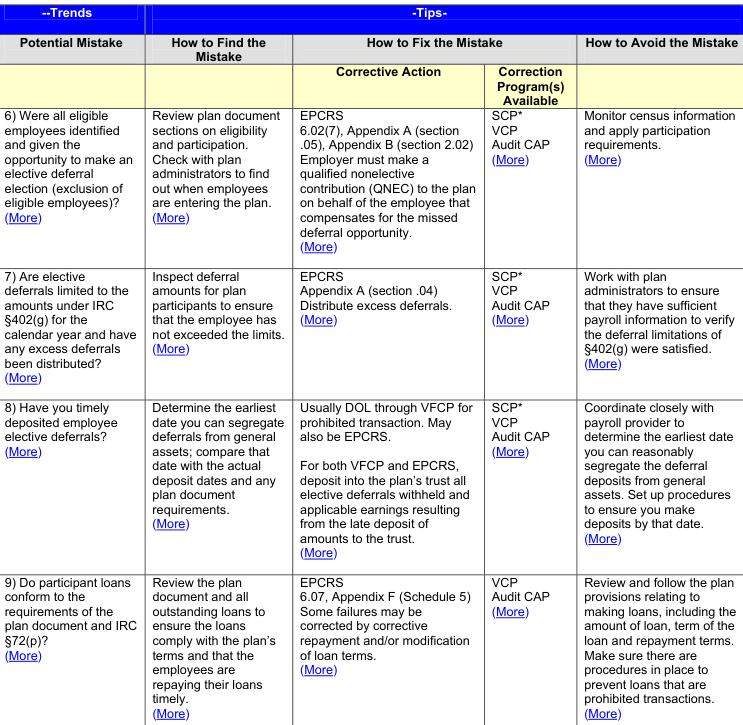table: (3, 4, 737, 719)
table column: (291, 4, 482, 719), (573, 4, 737, 719), (143, 4, 291, 719), (3, 4, 143, 719), (482, 4, 573, 719)
table column header: (3, 4, 737, 107)
table row: (3, 391, 737, 566), (3, 107, 737, 260), (3, 566, 737, 719), (3, 260, 737, 391), (3, 56, 737, 107), (3, 26, 737, 56), (3, 4, 737, 26)
table spanning cell: (3, 4, 143, 107), (573, 26, 737, 107), (143, 4, 737, 26), (143, 26, 291, 107), (291, 26, 573, 56)
